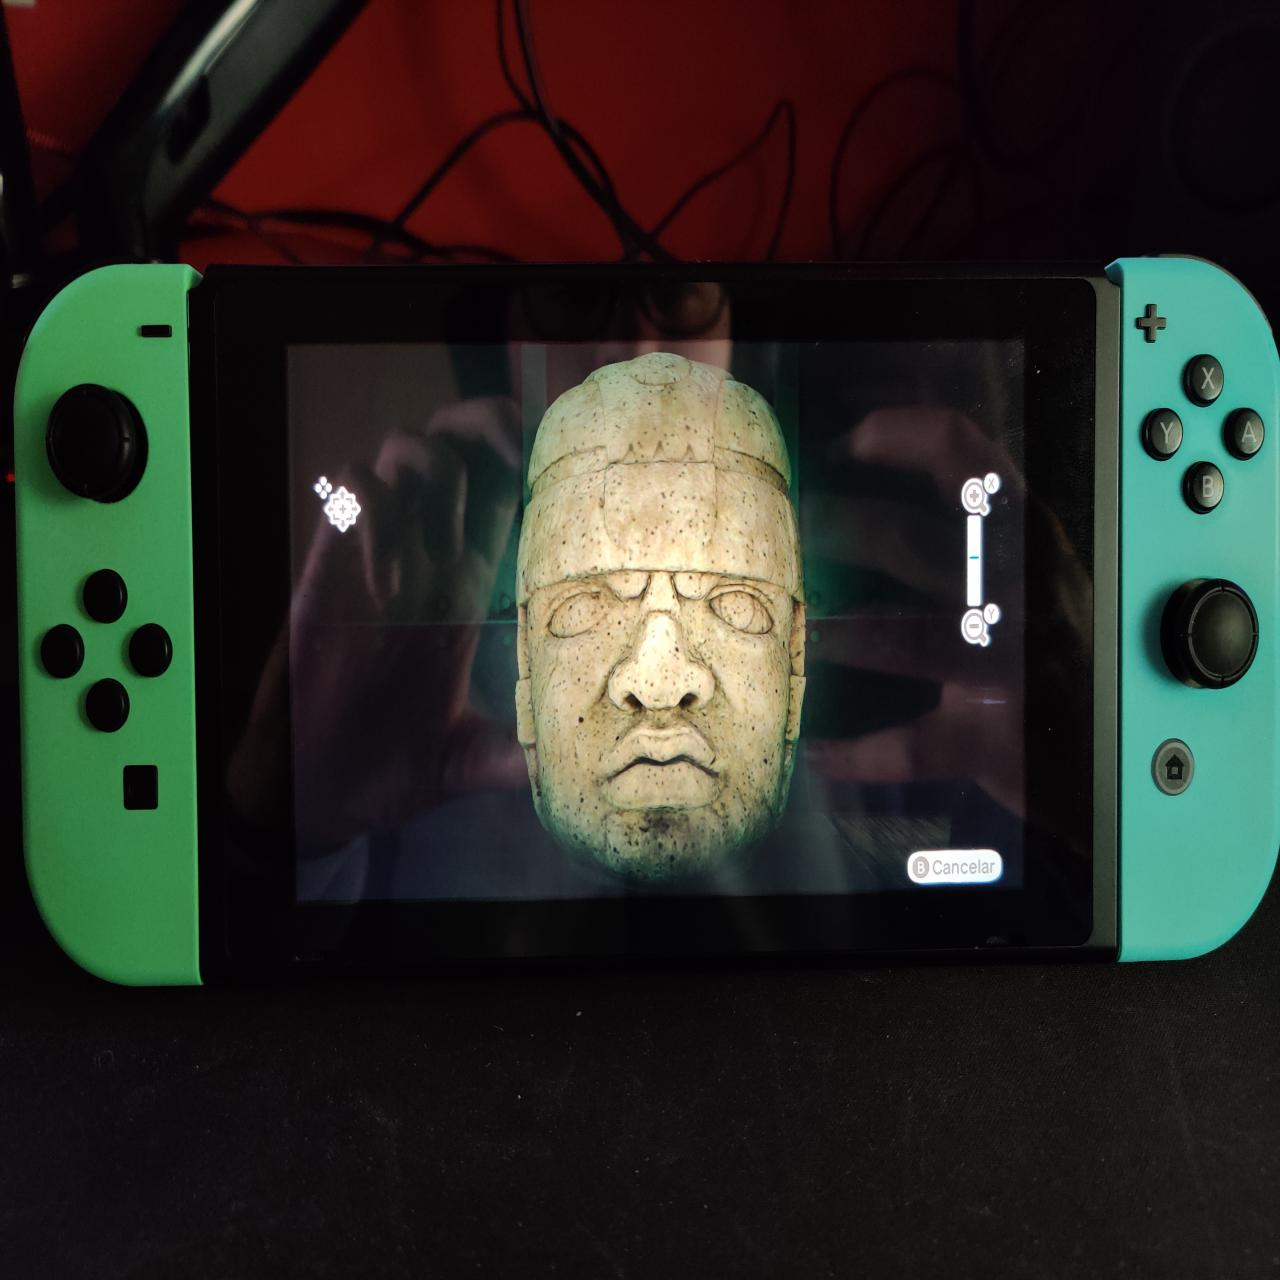OlmecaHead: (517, 350, 810, 886)
